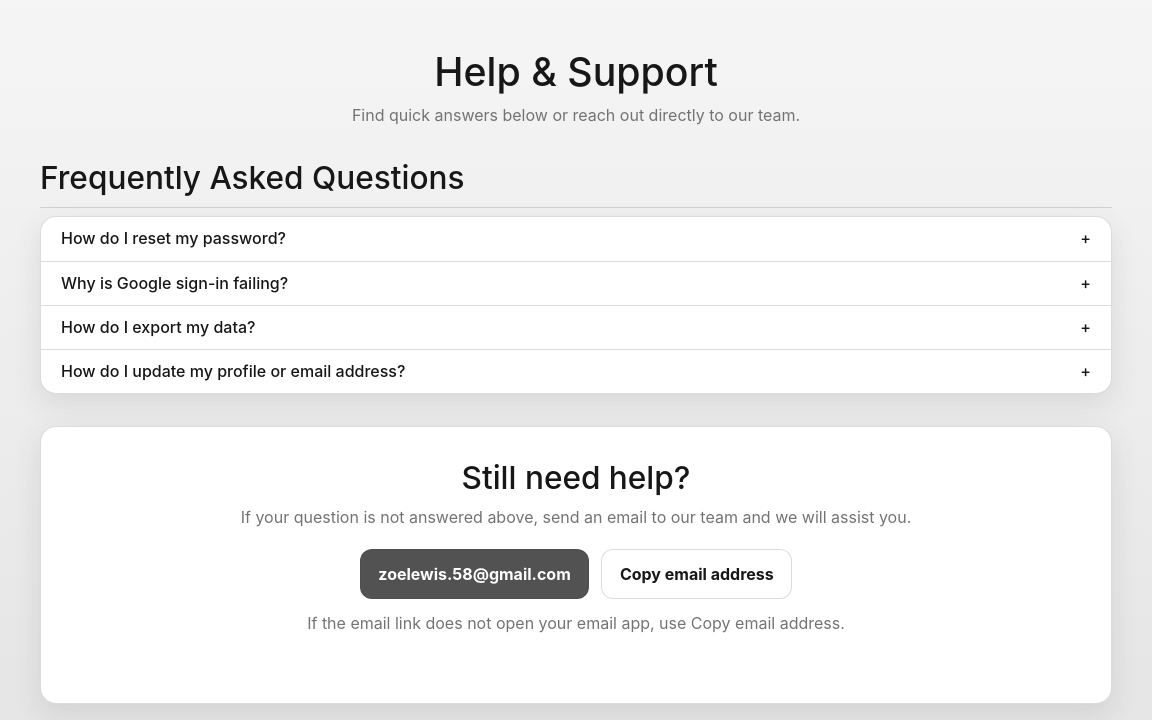
HelpSupport › reports clipboard copy success
The image size is (1152, 720).
Click the button "Copy email address": (697, 574) [601, 549, 792, 599]
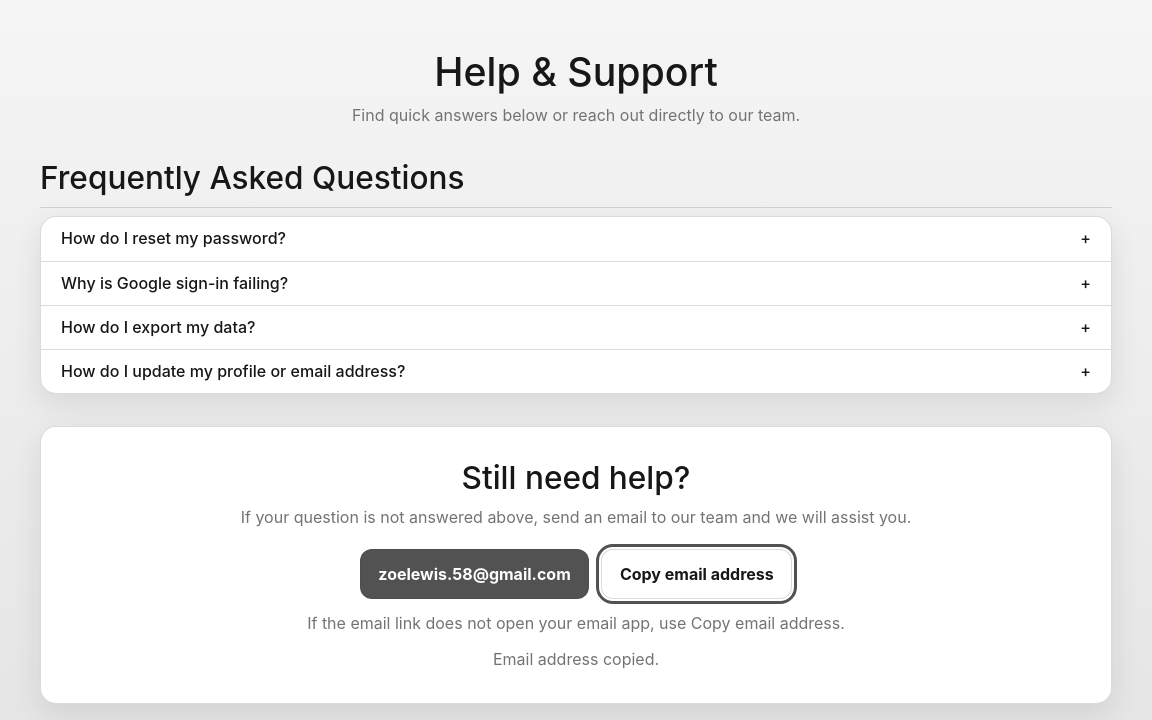
Expected: the message shows "copied", [493, 649, 659, 669]
